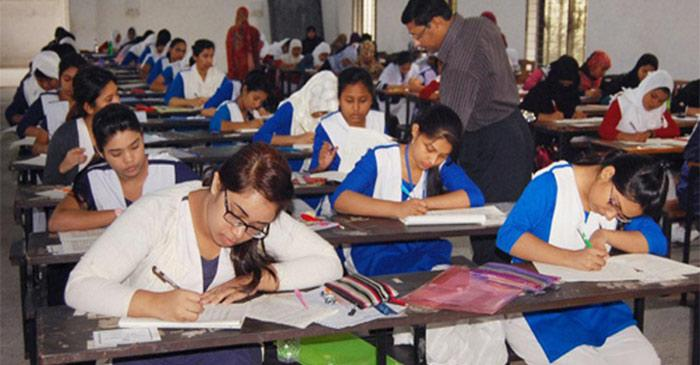invigilator: (373, 5, 542, 189), (211, 6, 269, 76)
student: (63, 146, 361, 354), (529, 129, 688, 286), (353, 106, 512, 240), (37, 62, 153, 162), (306, 87, 408, 176), (600, 71, 686, 148)
